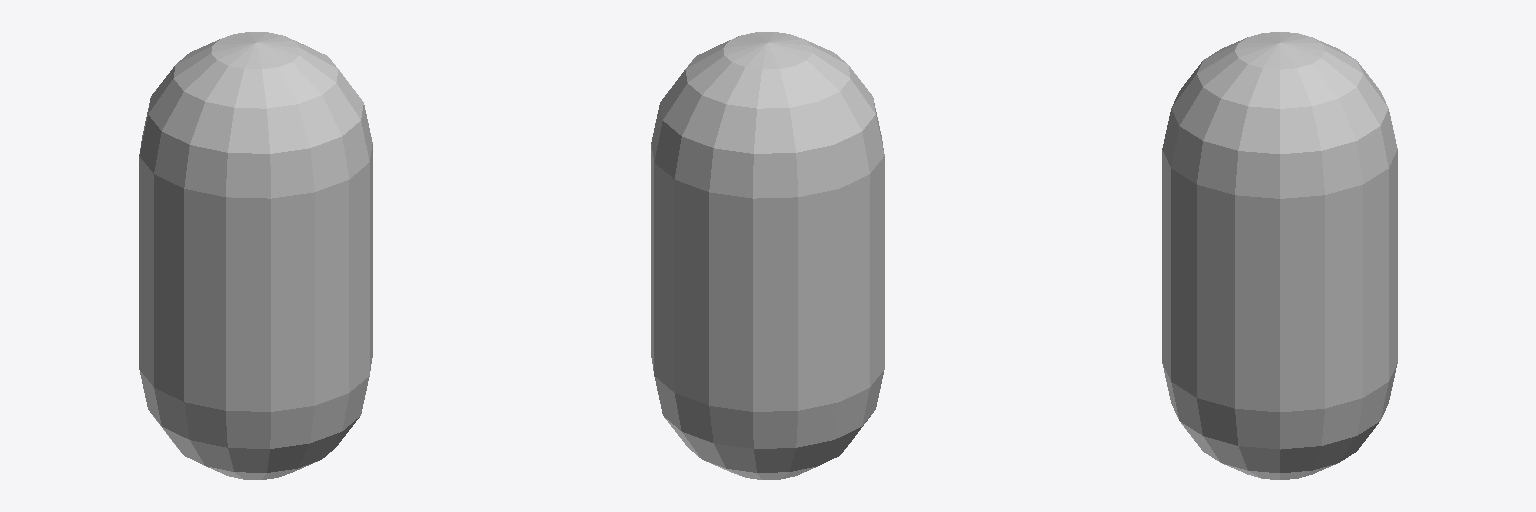
Rendered from Player.obj.
3 views of the same model, side by side, from view 1: azimuth 30°, elevation 25°; view 2: azimuth 150°, elevation 25°; view 3: azimuth 270°, elevation 25° (orthographic).
Size of the model in its own units: 1 by 2 by 1.